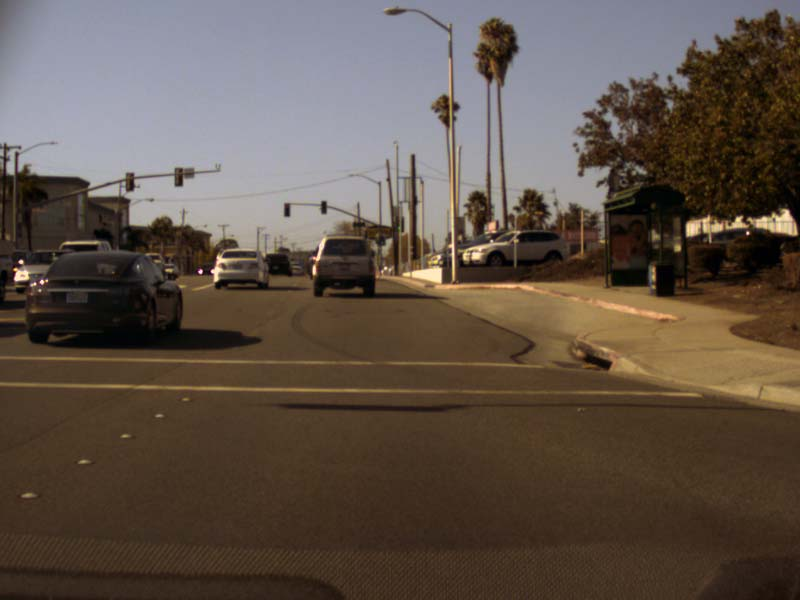Green: (396, 217, 404, 231), (379, 233, 385, 245)
Red: (283, 203, 290, 217)
